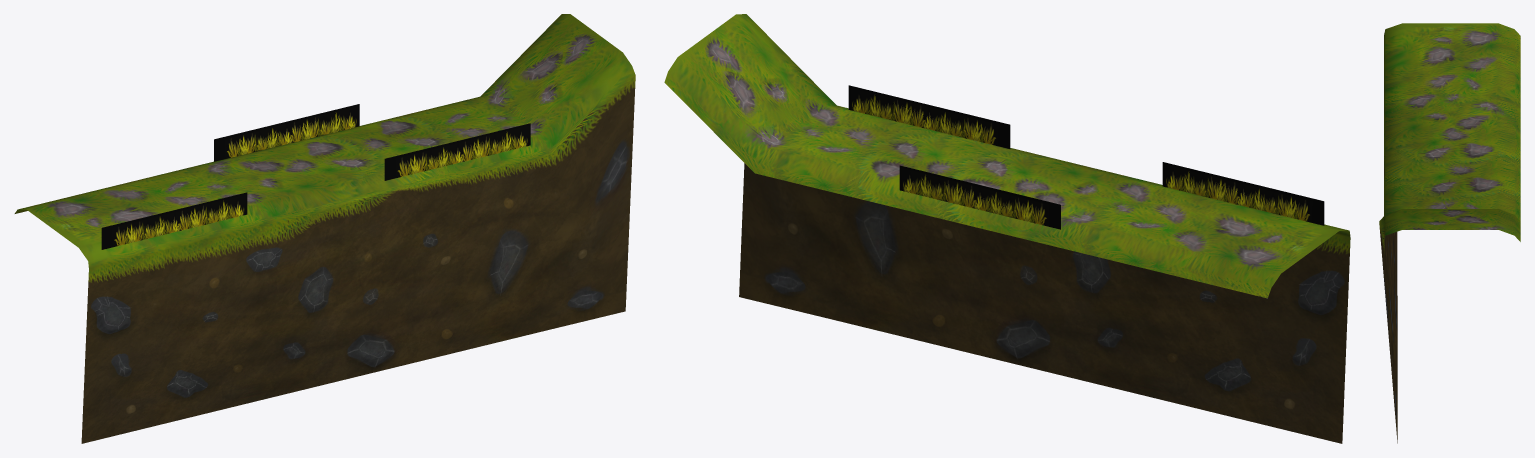
The model's file is platform_onder_VERHOGING_RECHTS.fbx.
3 views of the same model, side by side, from view 1: azimuth 30°, elevation 25°; view 2: azimuth 150°, elevation 25°; view 3: azimuth 270°, elevation 25° (orthographic). The views are drawn at different scales.
Visible parts, largest first — view 1: Plane; view 2: Plane; view 3: Plane.
Boxes of the visible parts, <box> form: Plane: <box>14,14,635,443</box>; Plane: <box>664,14,1350,443</box>; Plane: <box>1379,23,1520,443</box>.
Size of the model in its own units: 2091 by 943 by 515.
1 material, 1 textured.
